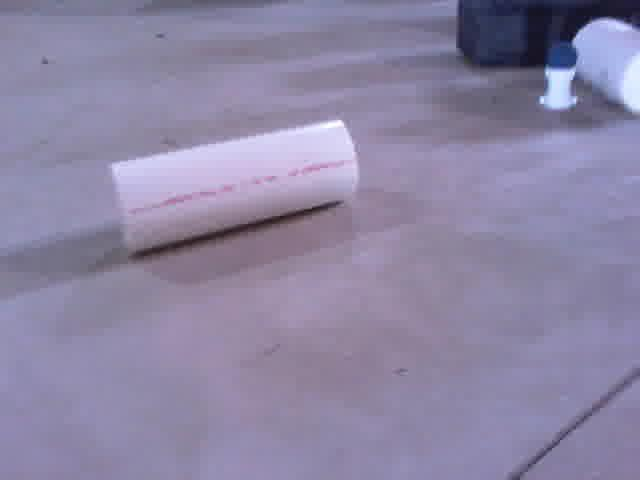coral: (109, 121, 357, 257), (575, 19, 640, 113)
